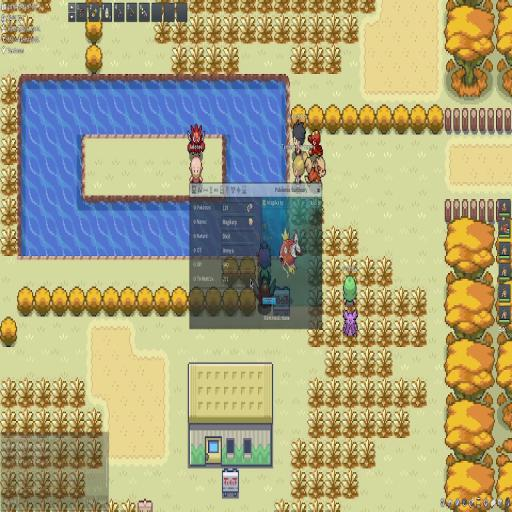SKIPANOUCE: (190, 185, 310, 327)
